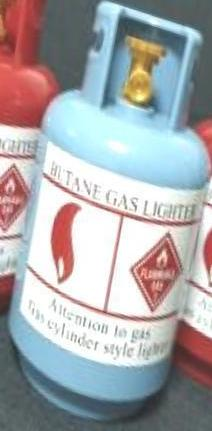cylinder: (1, 1, 212, 431)
